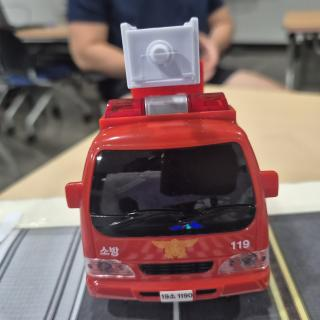Fire_truck: (65, 17, 278, 302)
